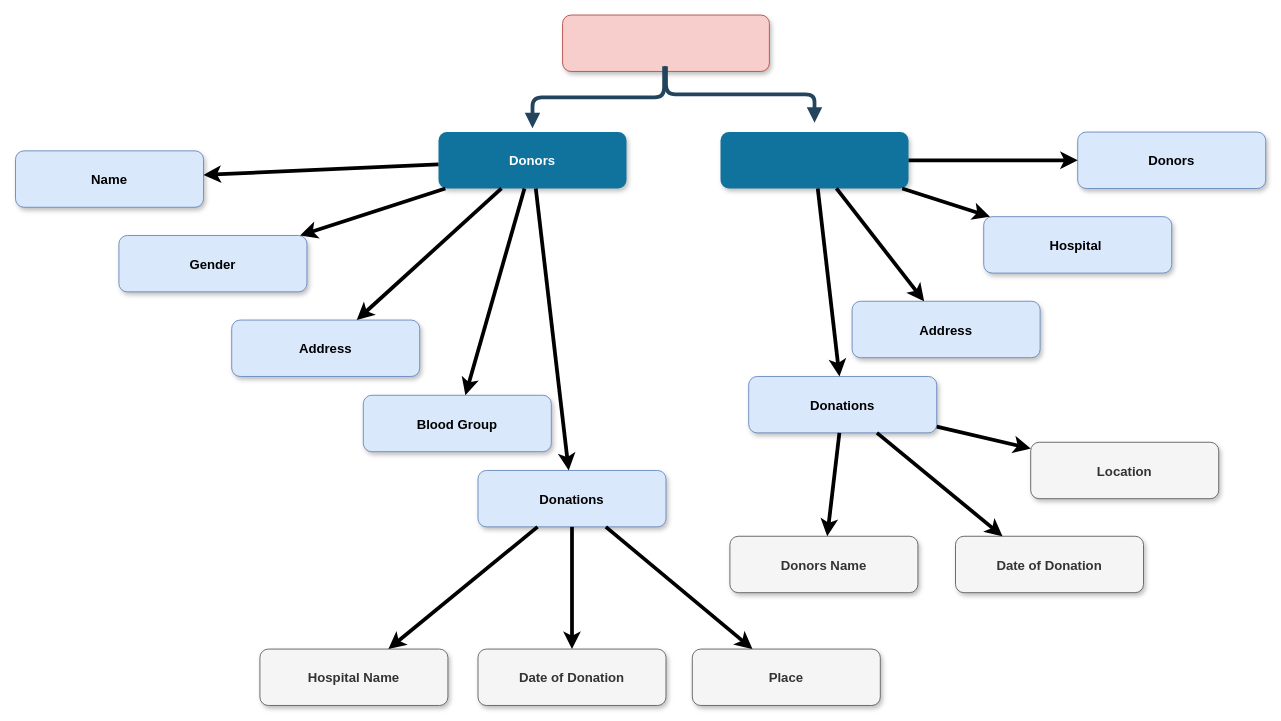
This 1281x721 diagram has some shape labels left out. Here are the shapes that lost their labels. From the top down, the centre of each, then its label:
[666,44]: Locodonor
[815,161]: Hospitals
